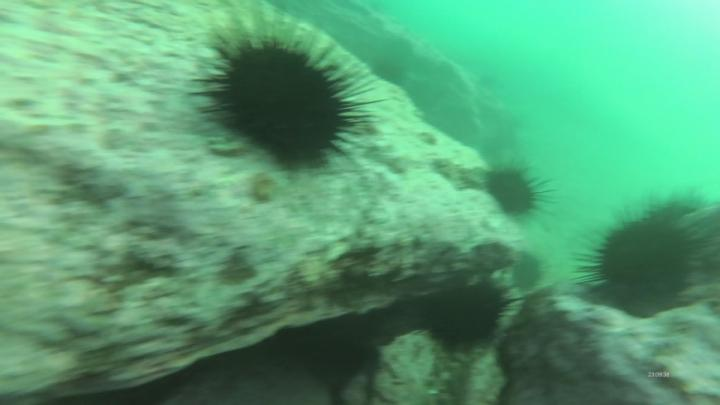echinus: (203, 37, 352, 173), (594, 210, 702, 320), (422, 276, 513, 361), (480, 166, 536, 220)
